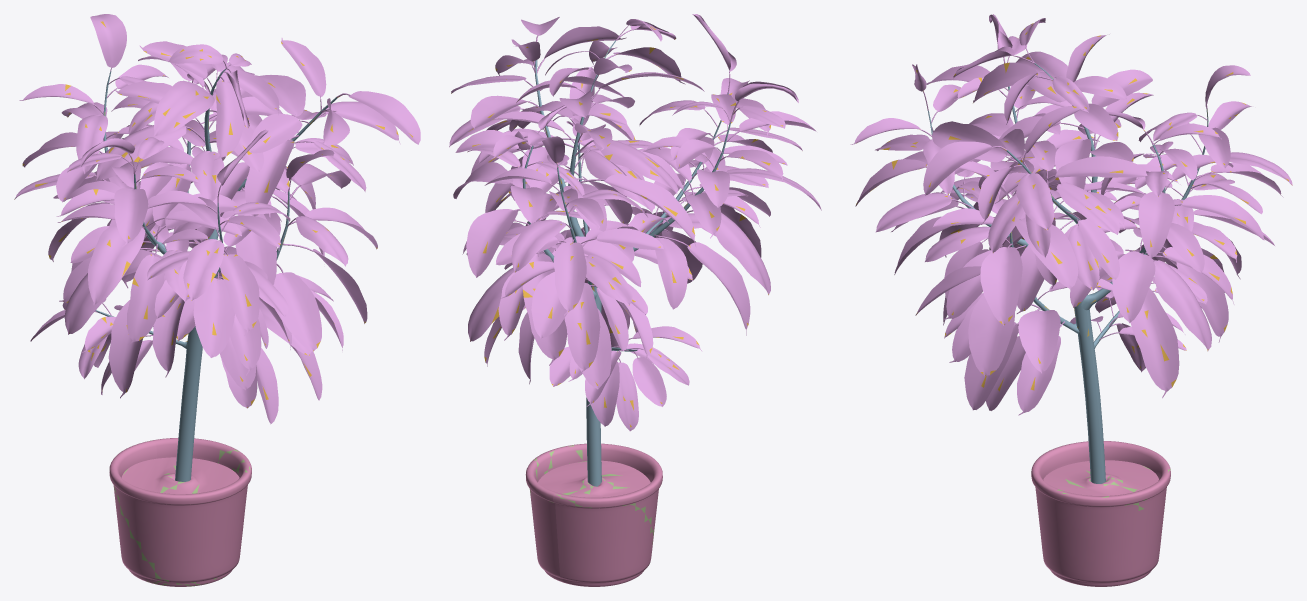
Rendered from plantBig.fbx.
3 renders of one model, left to right at view 1: azimuth 30°, elevation 25°; view 2: azimuth 150°, elevation 25°; view 3: azimuth 270°, elevation 25°, orthographic. The views are drawn at different scales.
Visible parts, largest first — view 1: 000-0-2; view 2: 000-0-2; view 3: 000-0-2.
Boxes of the visible parts, bbox=[...] form: 000-0-2: bbox=[14, 14, 420, 586]; 000-0-2: bbox=[449, 14, 821, 586]; 000-0-2: bbox=[850, 14, 1292, 586].
Bounding box in the file's own units: 119 × 184 × 138.
